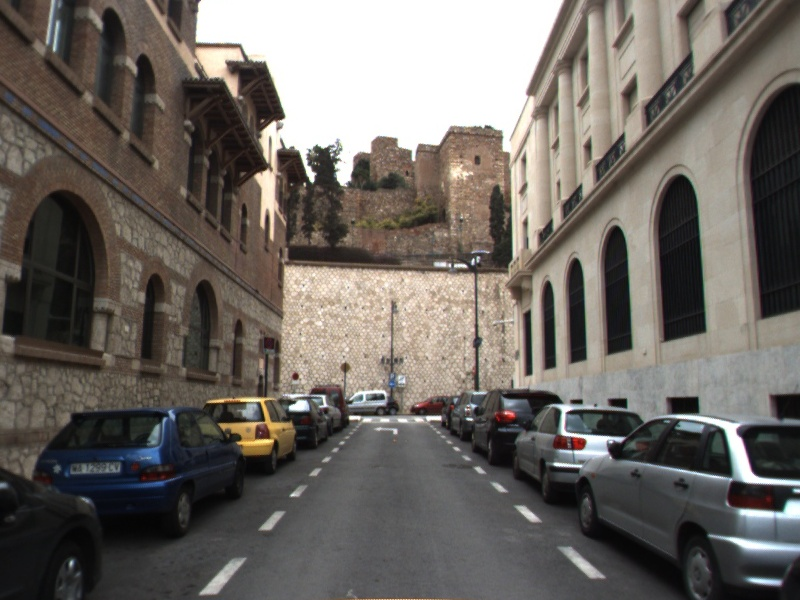LEFT: (372, 424, 400, 437)
